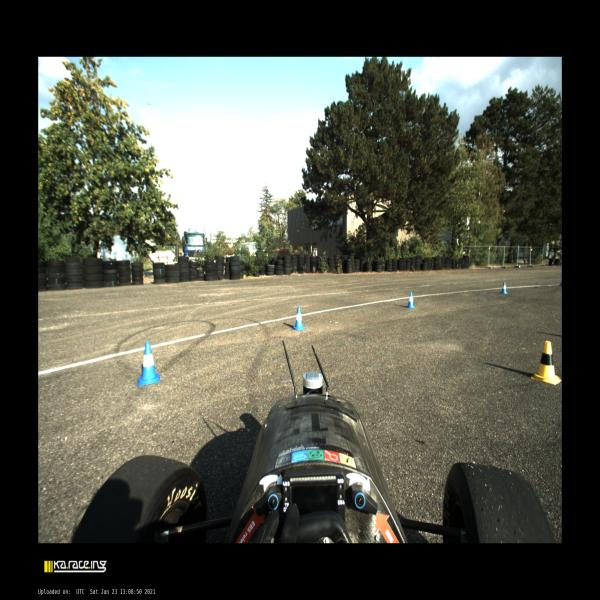blue_cone: (138, 342, 160, 386), (292, 306, 306, 331), (406, 292, 415, 308), (501, 282, 507, 294)
yellow_cone: (531, 341, 562, 384)
